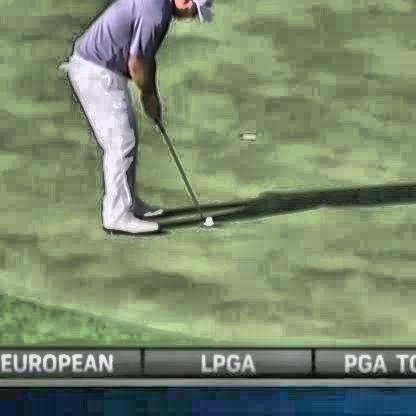golfball: (201, 216, 212, 223)
